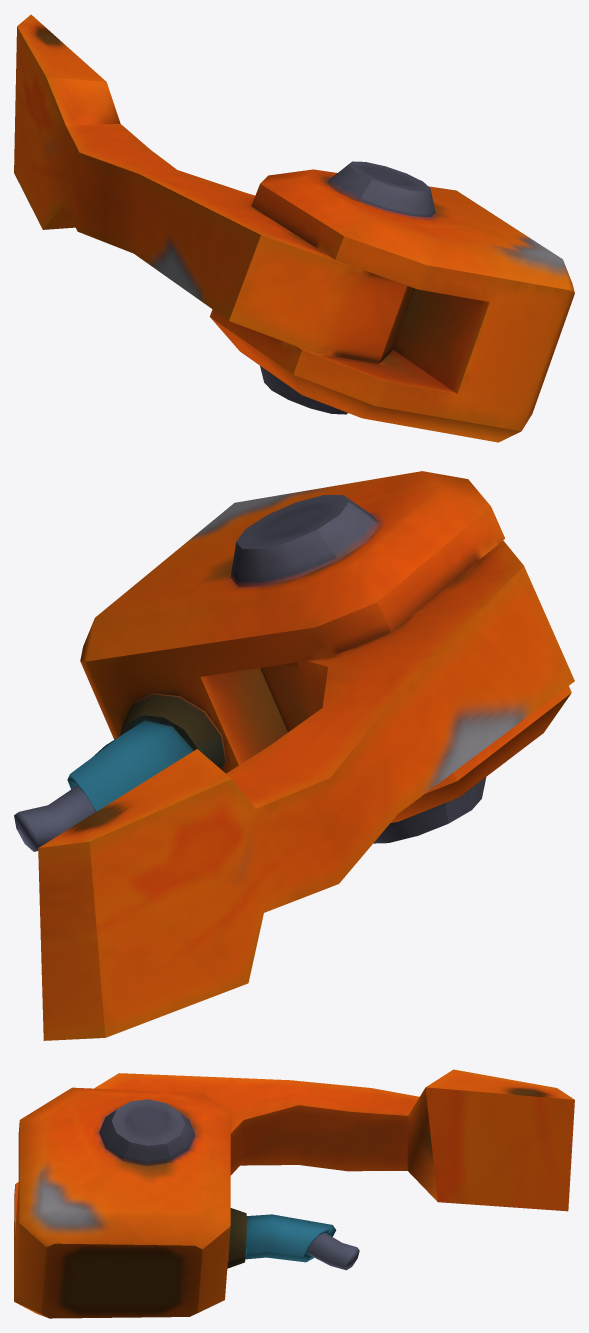
Rendered from p_mesh_refinery_scrapmetal_finnishchunk_end01.fbx.
3 renders of one model, top to bottom at view 1: azimuth 30°, elevation 25°; view 2: azimuth 150°, elevation 25°; view 3: azimuth 270°, elevation 25°, orthographic. The views are drawn at different scales.
Parts seen in each view (by area): view 1: polySurface4; view 2: polySurface4; view 3: polySurface4.
Boxes of the visible parts, x1=… form: polySurface4: x1=14, y1=14, x2=574, y2=442; polySurface4: x1=14, y1=471, x2=574, y2=1040; polySurface4: x1=14, y1=1069, x2=574, y2=1318.
Size of the model in its own units: 0.9954 by 0.7391 by 2.01.
1 material, 1 textured.
